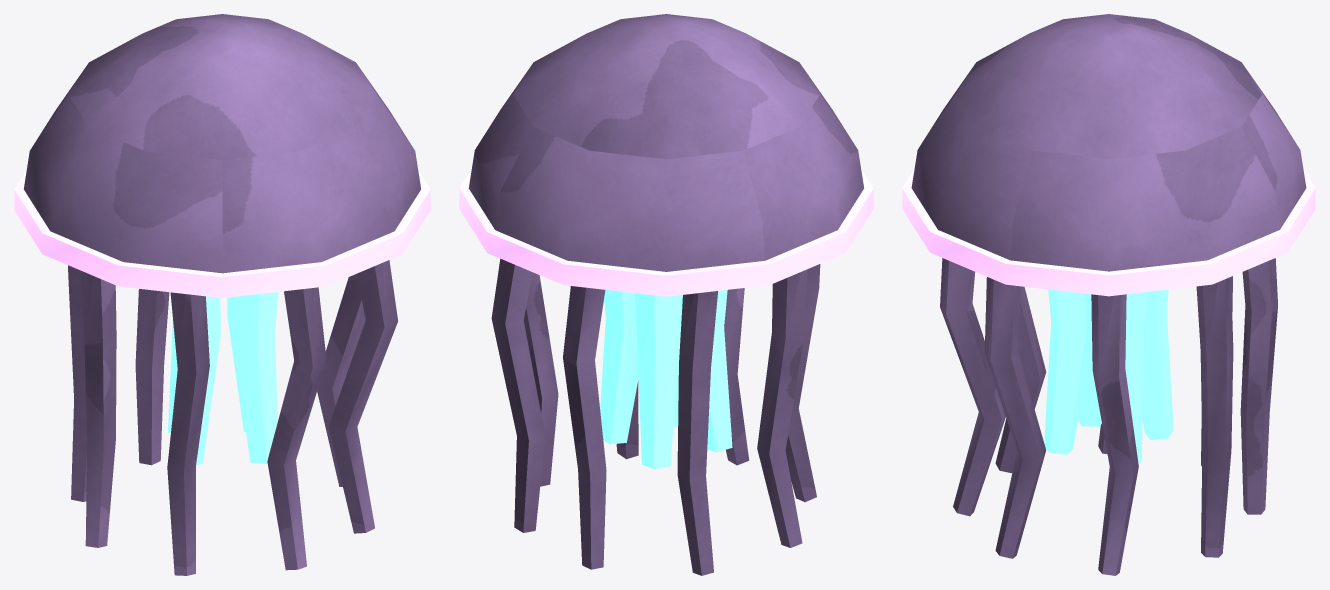
File: jellyfish.glb
The picture shows the model from 3 angles, left to right: view 1: azimuth 30°, elevation 25°; view 2: azimuth 150°, elevation 25°; view 3: azimuth 270°, elevation 25°; orthographic projection.
Parts seen in each view (by area): view 1: DL019_Jellyfish_coral_violet, DL019_Jellyfish_emissive_violet, DL019_Jellyfish_emissive_teal; view 2: DL019_Jellyfish_coral_violet, DL019_Jellyfish_emissive_teal, DL019_Jellyfish_emissive_violet; view 3: DL019_Jellyfish_coral_violet, DL019_Jellyfish_emissive_teal, DL019_Jellyfish_emissive_violet.
Boxes of the visible parts, x1,y1,x2,y2 form: DL019_Jellyfish_coral_violet: (24,14,420,575); DL019_Jellyfish_emissive_violet: (14,170,430,298); DL019_Jellyfish_emissive_teal: (168,292,278,465); DL019_Jellyfish_coral_violet: (468,14,864,575); DL019_Jellyfish_emissive_teal: (600,290,732,468); DL019_Jellyfish_emissive_violet: (459,169,873,296); DL019_Jellyfish_coral_violet: (911,14,1306,575); DL019_Jellyfish_emissive_teal: (1044,289,1173,463); DL019_Jellyfish_emissive_violet: (902,169,1315,296).
Bounding box in the file's own units: 1.08 × 1.39 × 1.08.
Materials: 3 (1 with a texture image).
